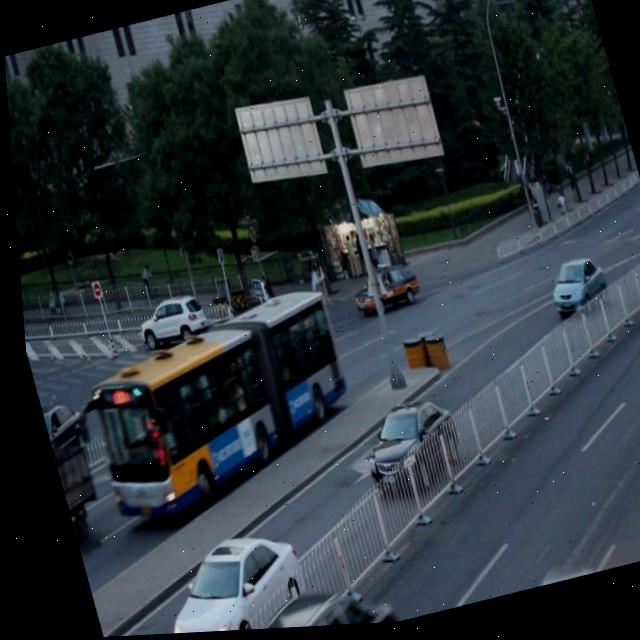bus: (46, 446, 98, 537)
car: (137, 520, 310, 636), (349, 396, 460, 501), (229, 574, 387, 632), (340, 258, 420, 322), (537, 255, 607, 324), (133, 294, 205, 356), (516, 555, 598, 594), (34, 396, 87, 456), (636, 257, 640, 319)
van: (69, 289, 364, 531)
